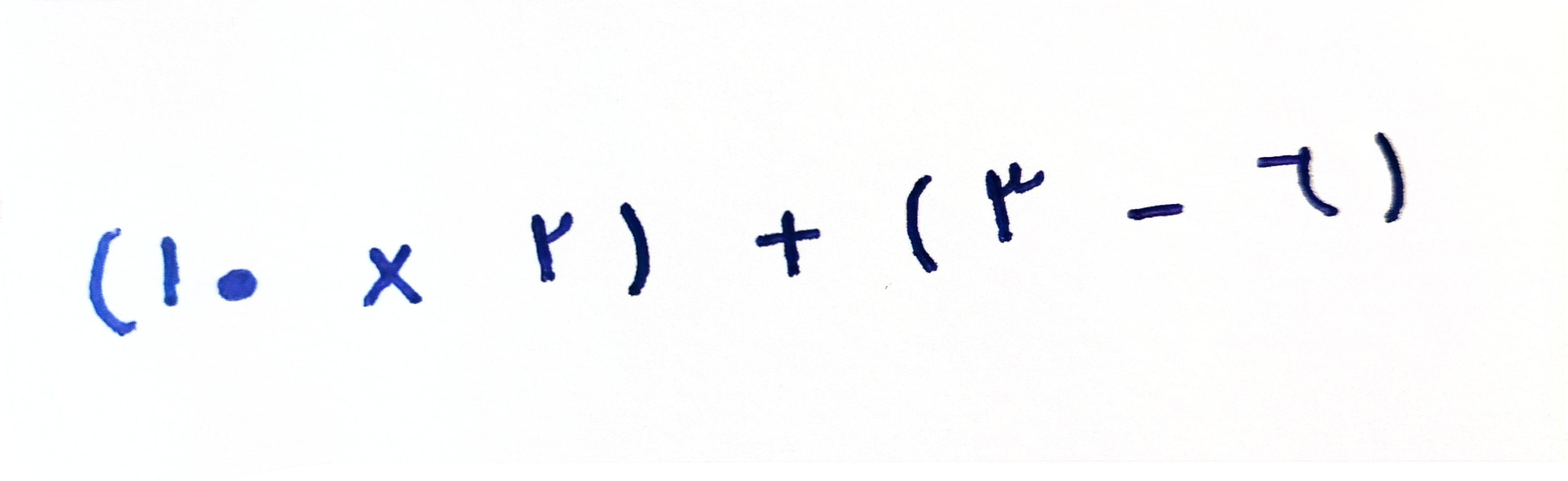character: (1258, 145, 1340, 216), (90, 227, 134, 339), (985, 161, 1045, 239), (757, 209, 821, 276), (362, 242, 422, 308), (905, 176, 938, 271), (618, 202, 650, 294), (531, 212, 573, 281), (1375, 134, 1406, 221), (218, 266, 256, 301), (161, 234, 179, 306), (1127, 201, 1186, 221)
